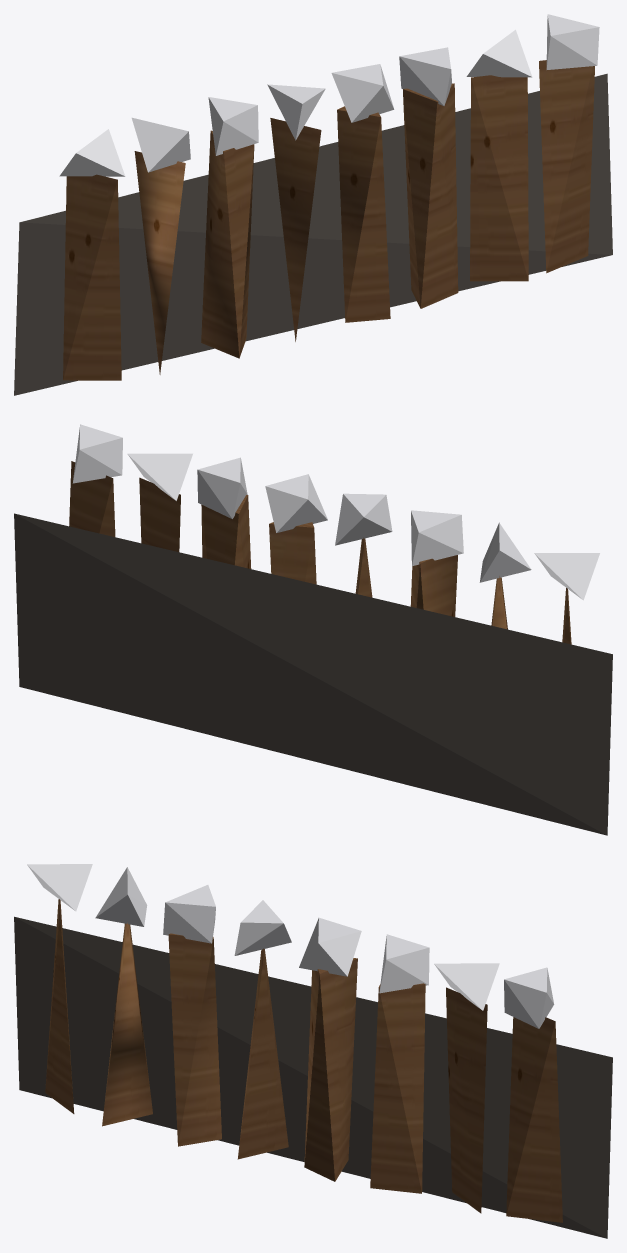
The model's file is gazyr_set_lod2.glb.
3 views of the same model, one above another, from view 1: azimuth 30°, elevation 25°; view 2: azimuth 150°, elevation 25°; view 3: azimuth 330°, elevation 25° (orthographic).
Parts seen in each view (by area): view 1: m; view 2: m; view 3: m.
Boxes of the visible parts, left/top/right/bottom form: m: left=14, top=14, right=612, bottom=395; m: left=14, top=424, right=612, bottom=835; m: left=14, top=864, right=612, bottom=1238.
Size of the model in its own units: 0.21 by 0.086 by 0.0216.
Materials: 3 (1 with a texture image).
